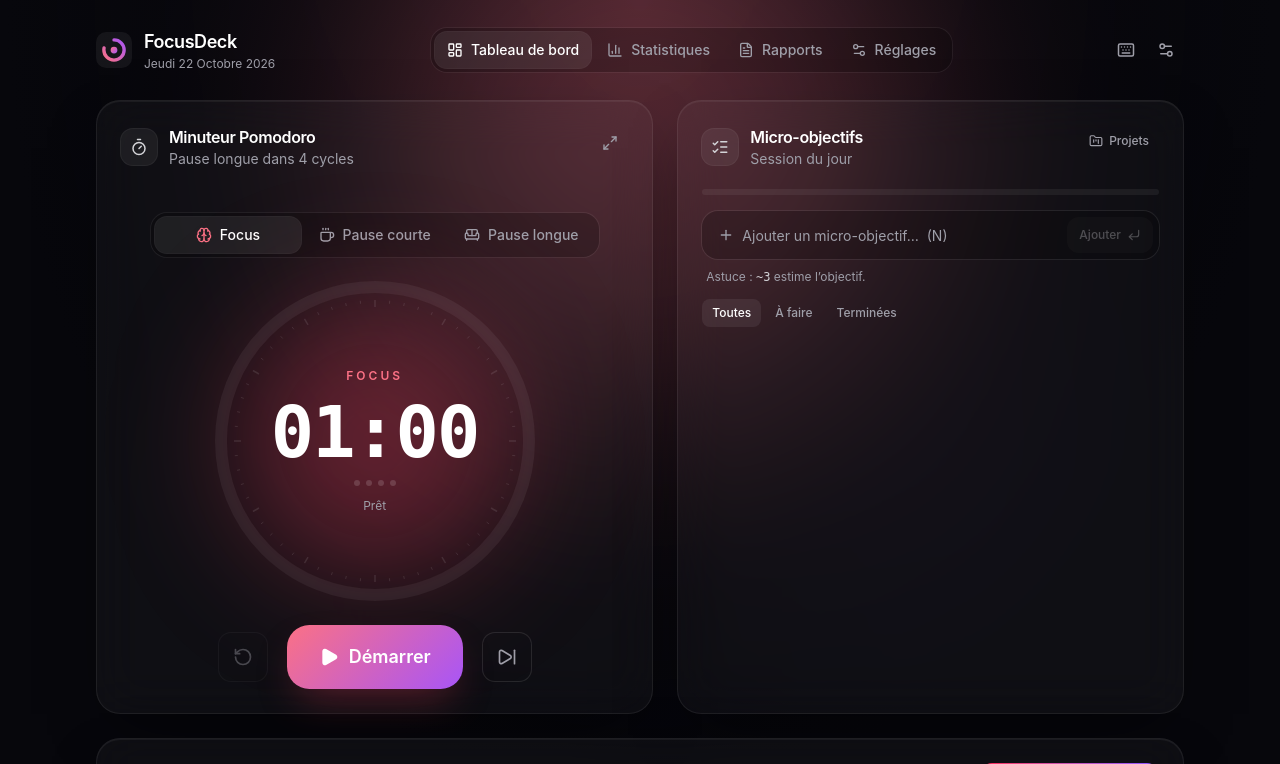
Scenario: <App /> › termine un cycle Focus et passe en pause courte
Expected: the text "01:00" is shown, [271,396,479,468]
Click the button "Démarrer" at (375, 657), box [287,625,463,689]
Wait 61000 ms
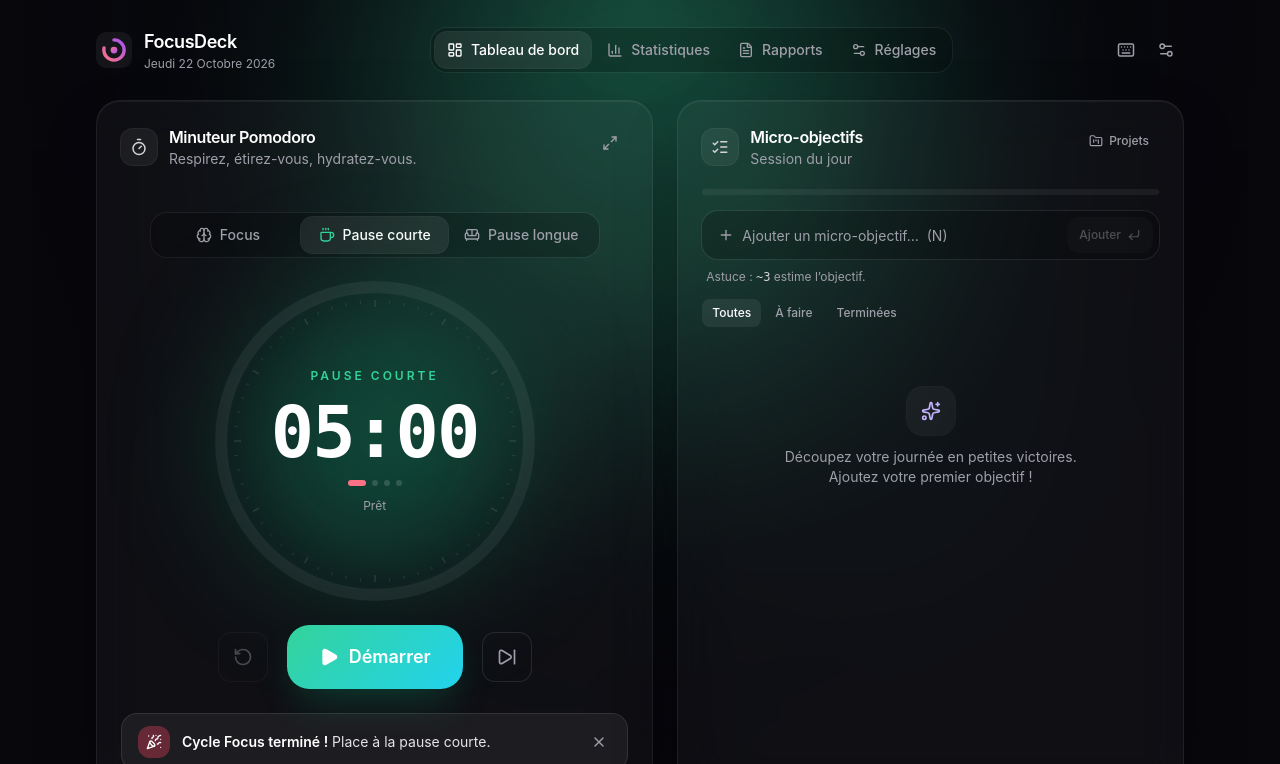
Now the message shows "Cycle Focus terminé", box [182,733,328,750]
